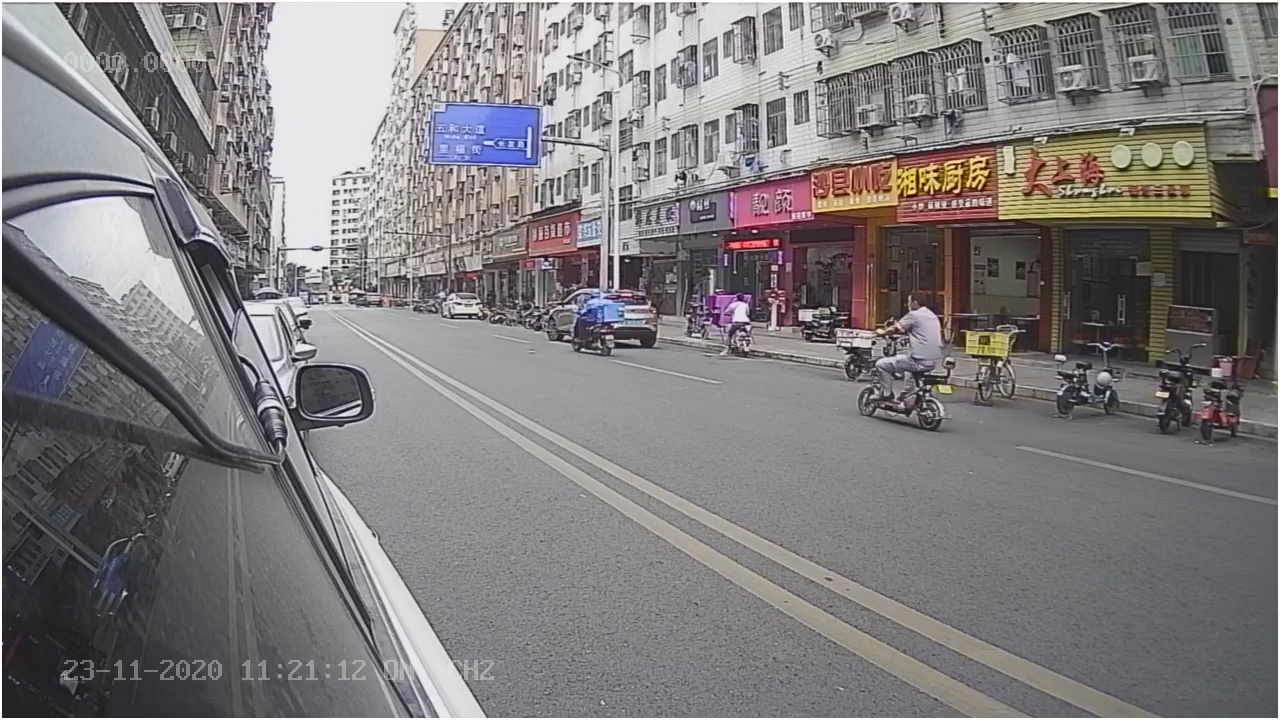person: (891, 292, 948, 368)
